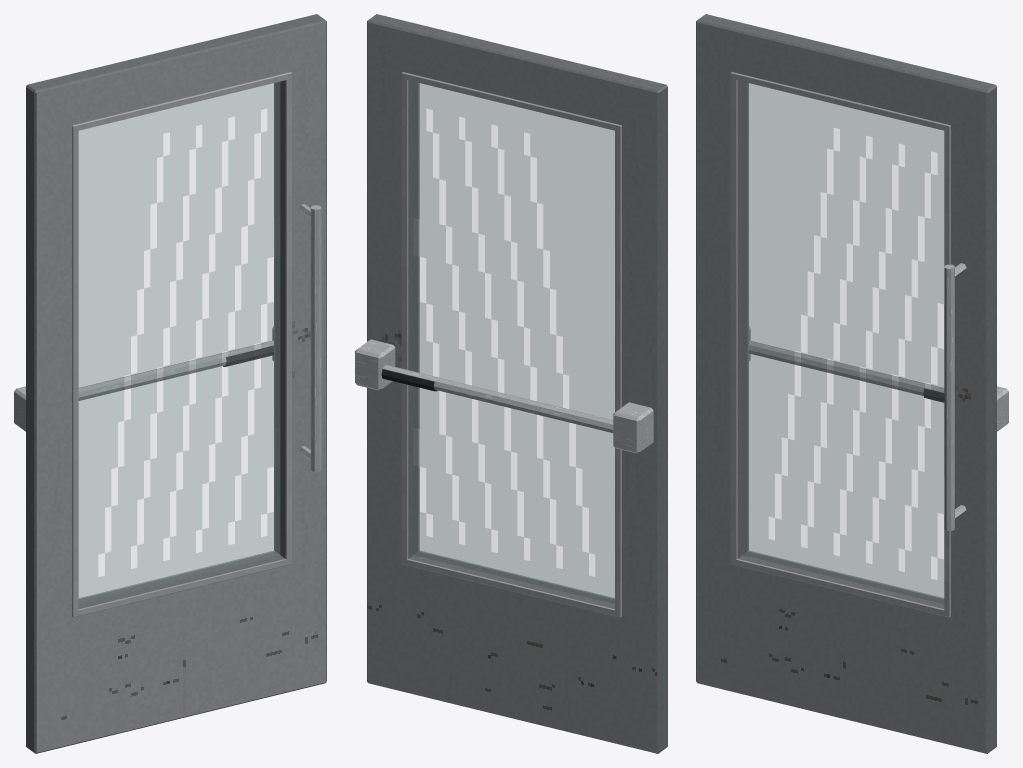
The model's file is door_exit_2.glb.
3 views of the same model, side by side, from view 1: azimuth 30°, elevation 25°; view 2: azimuth 150°, elevation 25°; view 3: azimuth 330°, elevation 25° (orthographic).
Visible parts, largest first — view 1: leaf_body, door_glass, glass_bead_front, pull_bar, panic_bar, glass_bead_back; view 2: leaf_body, door_glass, glass_bead_back, panic_bar, glass_bead_front, panic_bar_pad; view 3: leaf_body, door_glass, glass_bead_front, pull_bar, panic_bar, glass_bead_back.
Part boxes in pixels (<box>): leaf_body: <box>26,14,326,753</box>; door_glass: <box>79,82,279,603</box>; glass_bead_front: <box>72,72,292,617</box>; pull_bar: <box>299,204,321,471</box>; panic_bar: <box>14,326,273,431</box>; glass_bead_back: <box>79,83,275,599</box>; leaf_body: <box>367,14,667,753</box>; door_glass: <box>413,82,614,603</box>; glass_bead_back: <box>401,72,621,617</box>; panic_bar: <box>355,339,653,453</box>; glass_bead_front: <box>418,83,614,599</box>; panic_bar_pad: <box>381,369,437,391</box>; leaf_body: <box>696,14,996,753</box>; door_glass: <box>743,82,943,603</box>; glass_bead_front: <box>730,72,950,617</box>; pull_bar: <box>944,263,966,530</box>; panic_bar: <box>749,326,1008,431</box>; glass_bead_back: <box>747,83,943,599</box>.
Size of the model in its own units: 0.95 by 2.06 by 0.2375.
2 materials, 2 textured.
